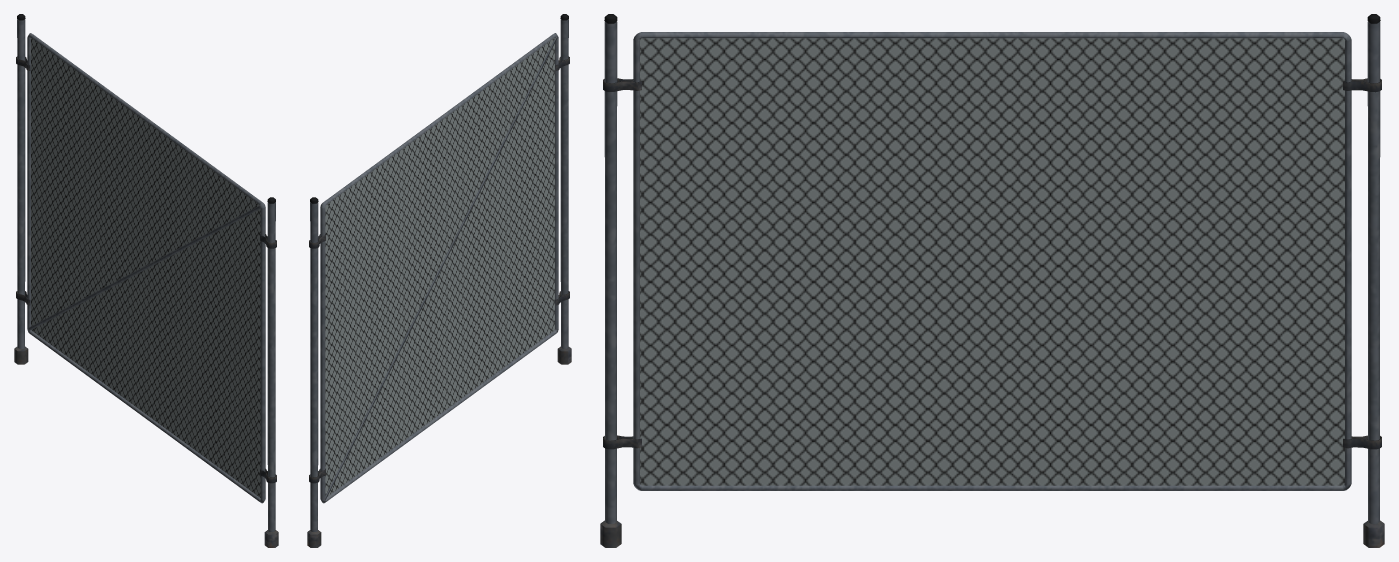
Rendered from Fence_B_A.fbx.
3 views of the same model, side by side, from view 1: azimuth 30°, elevation 25°; view 2: azimuth 150°, elevation 25°; view 3: azimuth 270°, elevation 25° (orthographic). The views are drawn at different scales.
Visible parts, largest first — view 1: Fence_B_A; view 2: Fence_B_A; view 3: Fence_B_A.
Boxes of the visible parts, box(x1,y1,x2,y2) form: Fence_B_A: box(14, 14, 278, 547); Fence_B_A: box(307, 14, 571, 547); Fence_B_A: box(600, 14, 1384, 547).
Size of the model in its own units: 6.83 by 216 by 290.
